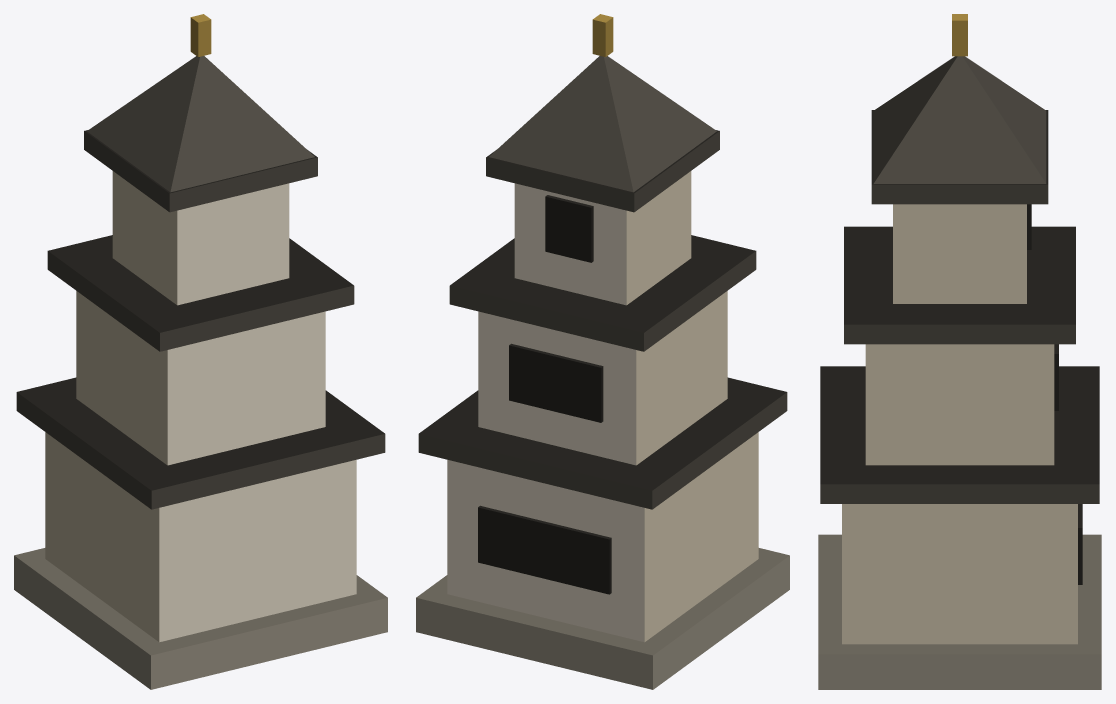
The model's file is bld_tower.glb.
3 views of the same model, side by side, from view 1: azimuth 30°, elevation 25°; view 2: azimuth 150°, elevation 25°; view 3: azimuth 270°, elevation 25° (orthographic). The views are drawn at different scales.
Visible parts, largest first — view 1: bld_tower; view 2: bld_tower; view 3: bld_tower.
Boxes of the visible parts, x1,y1,x2,y2 form: bld_tower: (14, 14, 387, 689); bld_tower: (416, 14, 789, 689); bld_tower: (818, 14, 1101, 689).
Size of the model in its own units: 0.72 by 1.72 by 0.72.
Materials: 1 (1 with a texture image).
